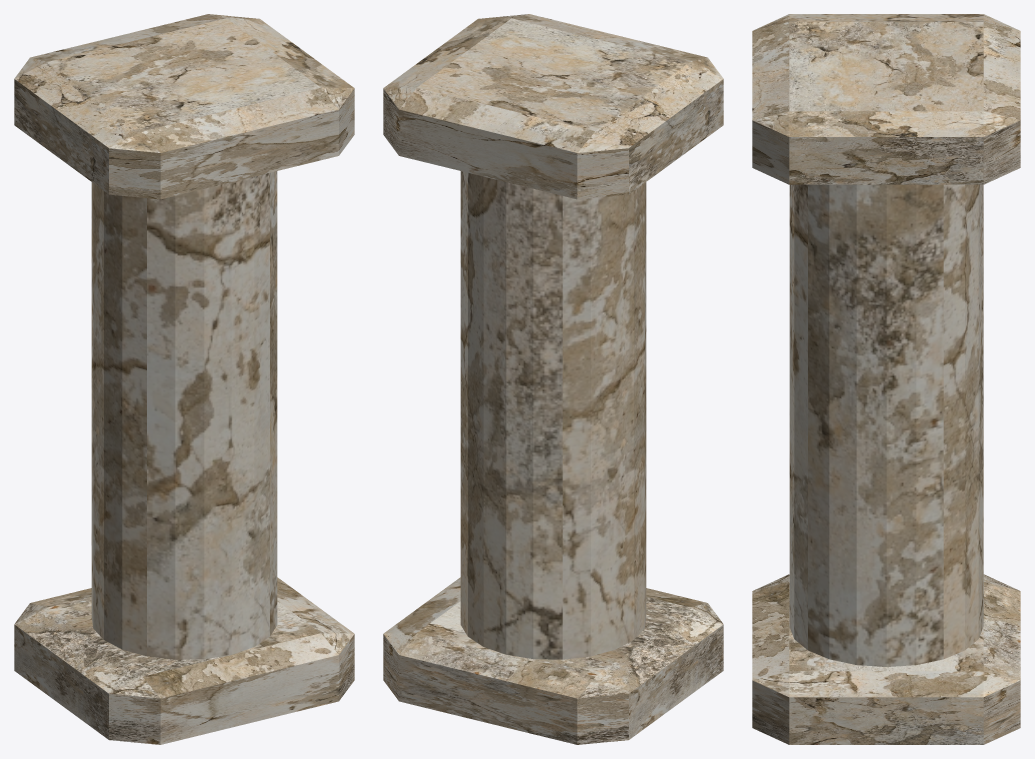
The model's file is poutre.glb.
The picture shows the model from 3 angles, left to right: view 1: azimuth 30°, elevation 25°; view 2: azimuth 150°, elevation 25°; view 3: azimuth 270°, elevation 25°; orthographic projection. The views are drawn at different scales.
Visible parts, largest first — view 1: Cylinder; view 2: Cylinder; view 3: Cylinder.
Part boxes in pixels (x1,y1,x2,y2): Cylinder: (14,14,354,744); Cylinder: (383,14,723,744); Cylinder: (752,14,1020,744).
Size of the model in its own units: 0.9975 by 2.36 by 0.9176.
2 materials, 2 textured.
